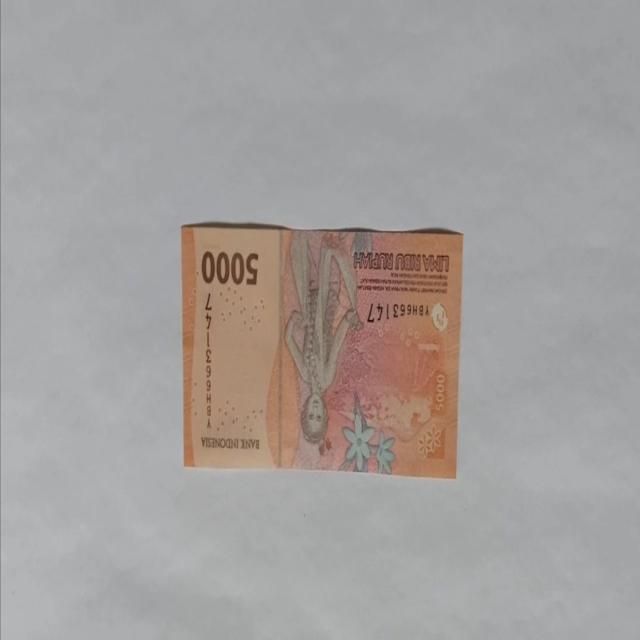lima ribu rupiah: (180, 222, 464, 478)
